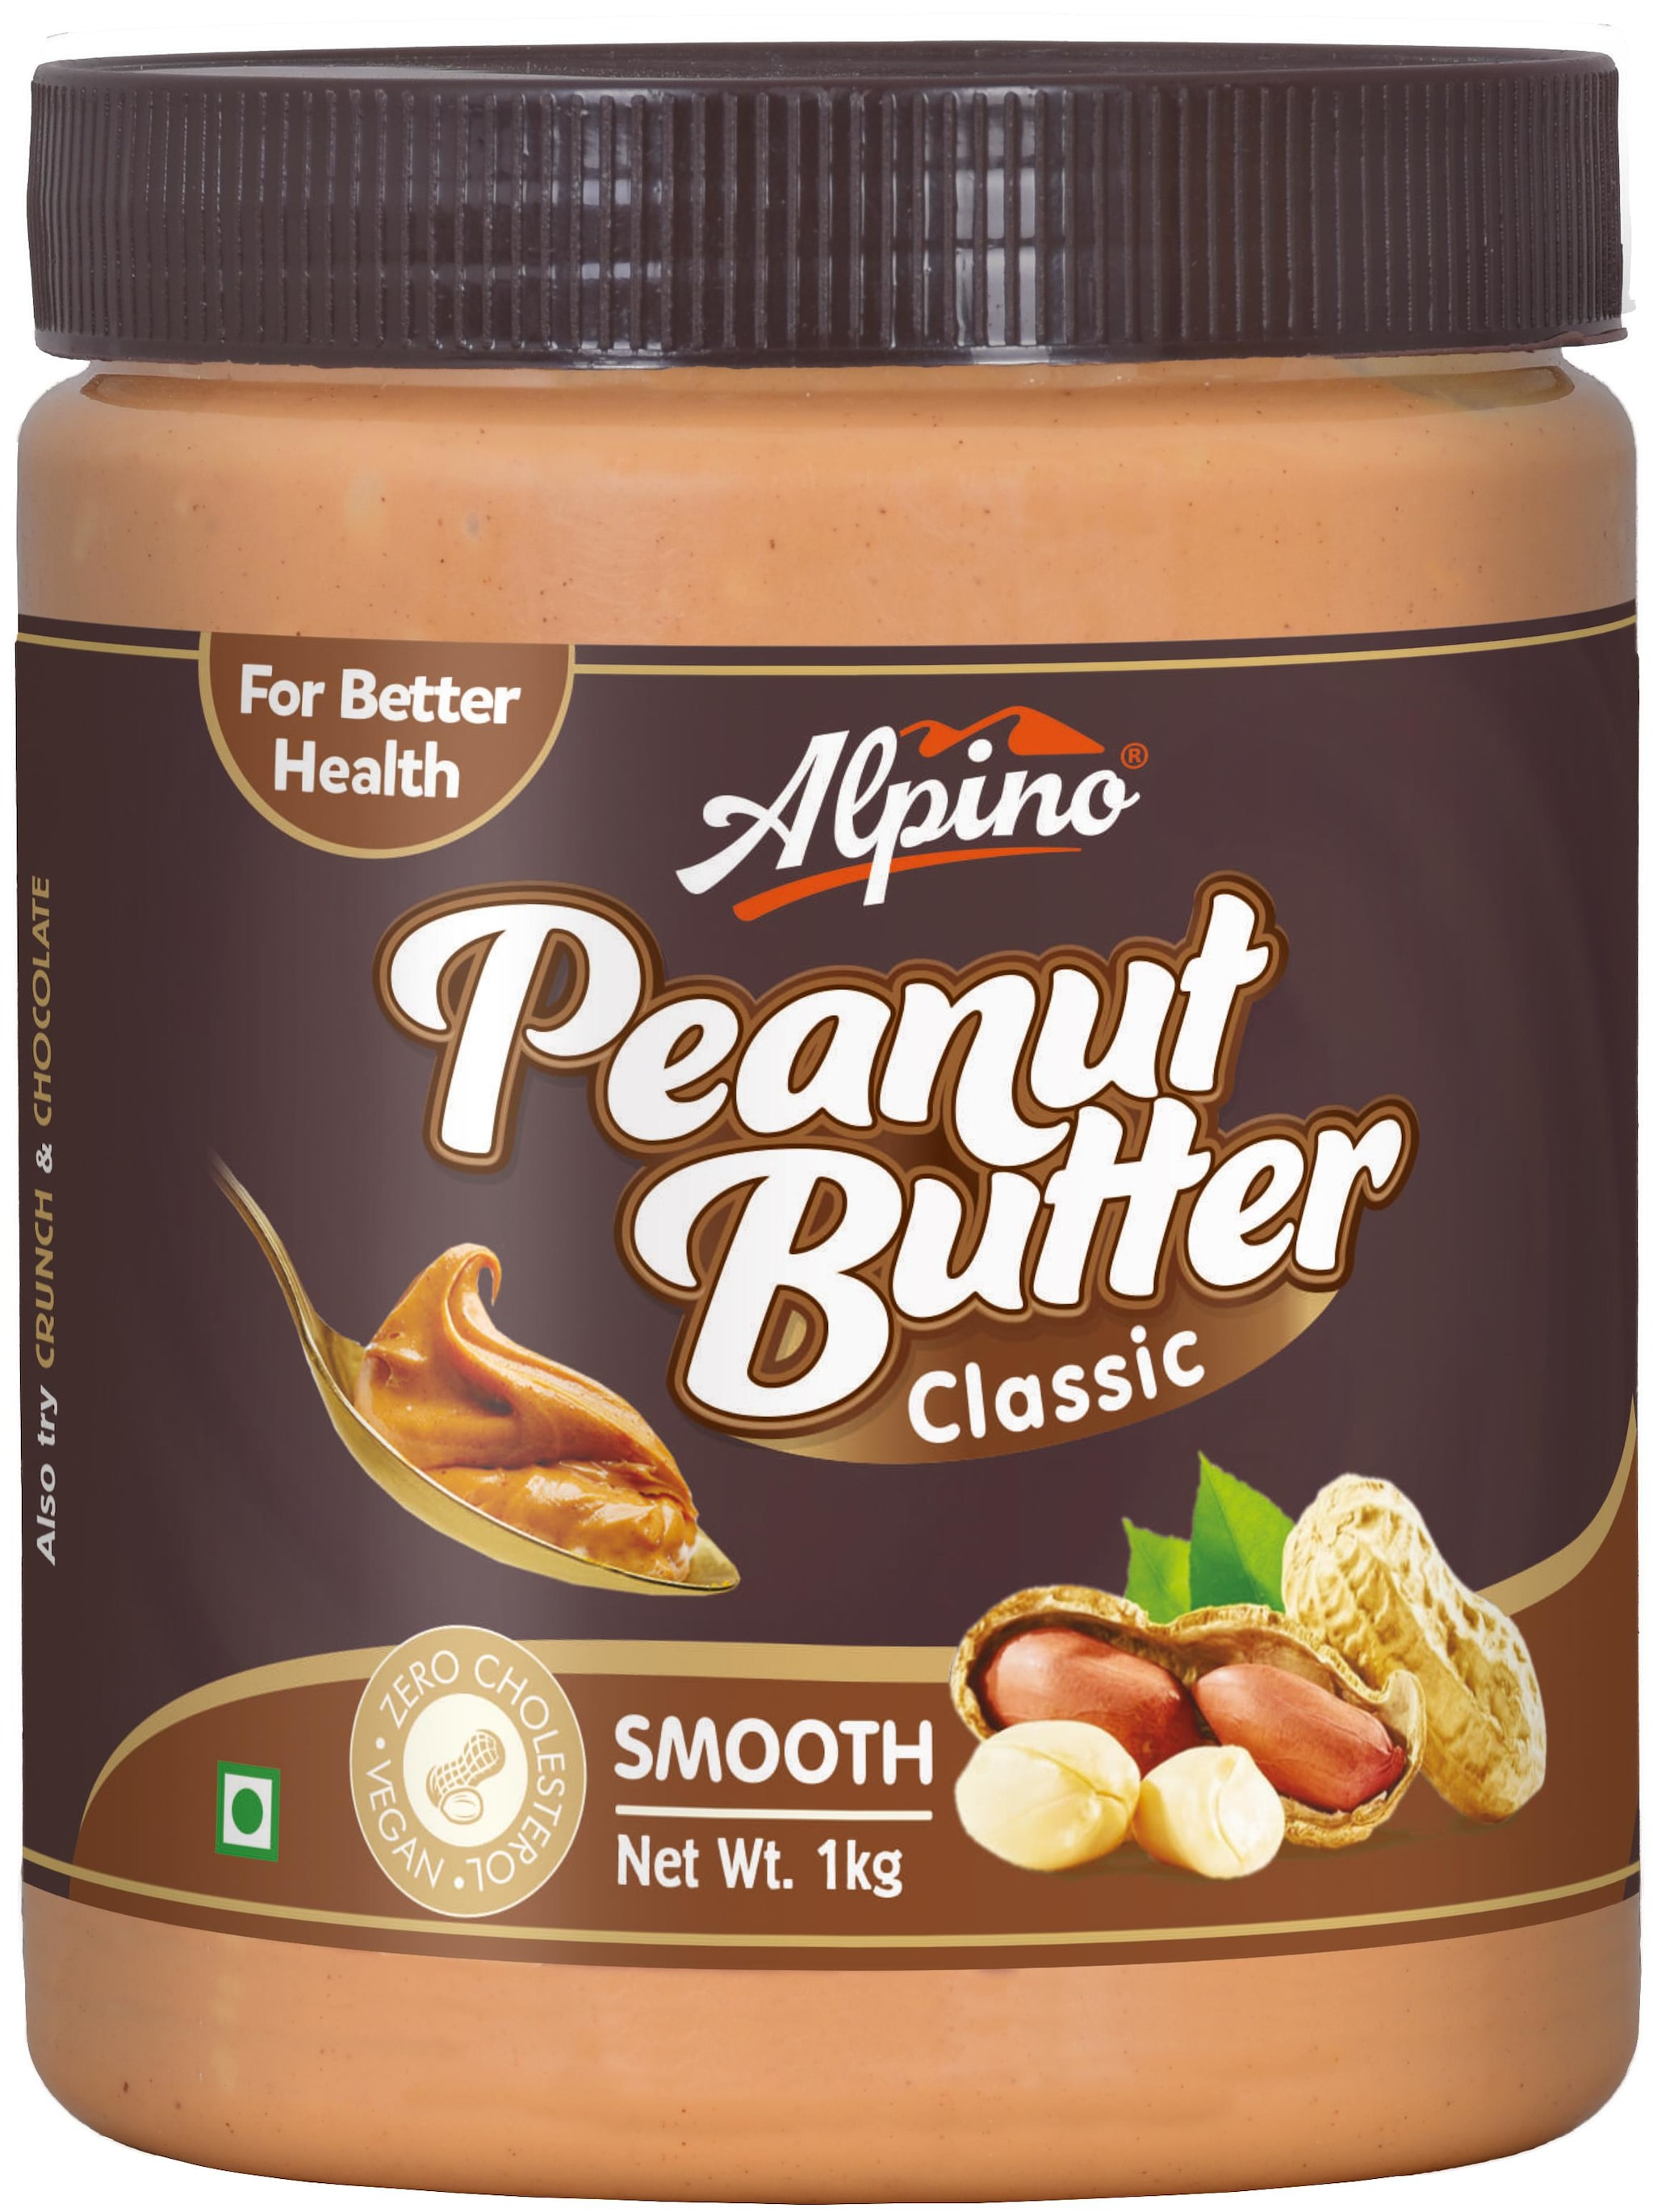JAR: (5, 31, 1653, 2209)
